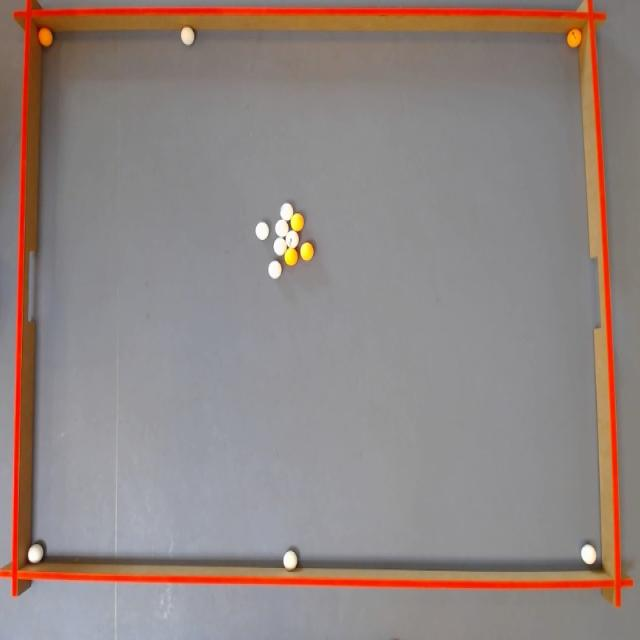orange_ball: (38, 26, 53, 46), (567, 28, 581, 48), (284, 247, 298, 266), (300, 242, 314, 260), (291, 213, 304, 231)
white_ball: (28, 543, 44, 564), (581, 543, 596, 565), (283, 550, 298, 571), (255, 222, 269, 240), (275, 219, 289, 237), (181, 27, 194, 45), (268, 260, 281, 278), (280, 202, 293, 220), (286, 230, 298, 248), (274, 238, 286, 255)
